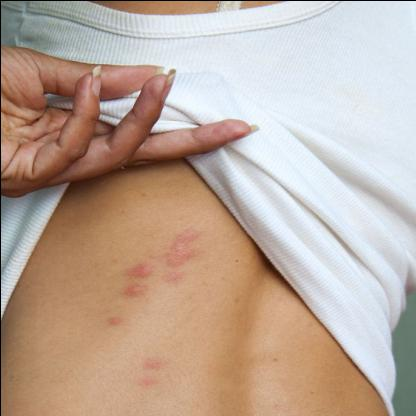Bed Bug: (158, 216, 198, 292), (117, 255, 153, 277), (124, 375, 173, 386), (118, 280, 150, 296), (140, 353, 170, 370), (102, 310, 124, 326)
